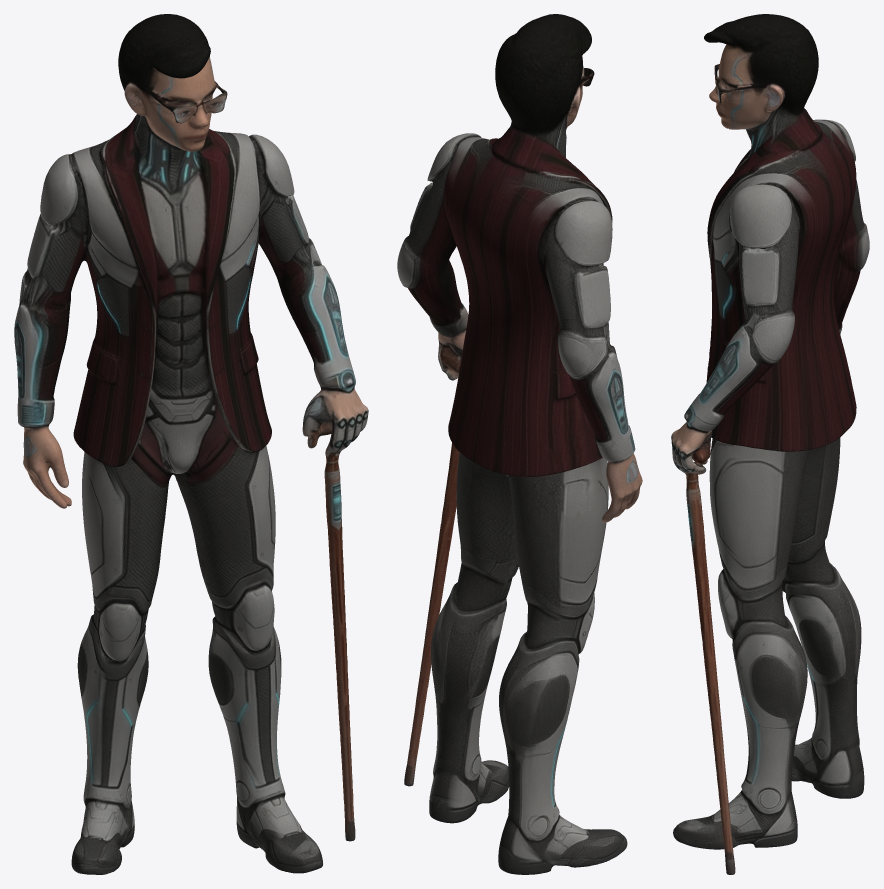
Rendered from estratega-rig.glb.
The picture shows the model from 3 angles, left to right: view 1: azimuth 30°, elevation 25°; view 2: azimuth 150°, elevation 25°; view 3: azimuth 270°, elevation 25°; orthographic projection. The views are drawn at different scales.
Parts seen in each view (by area): view 1: Mesh_0; view 2: Mesh_0; view 3: Mesh_0.
Boxes of the visible parts, x1,y1,x2,y2 form: Mesh_0: [14, 14, 368, 874]; Mesh_0: [397, 14, 642, 874]; Mesh_0: [671, 14, 869, 874].
Size of the model in its own units: 0.6707 by 1.9 by 0.436.
Materials: 2 (1 with a texture image).
